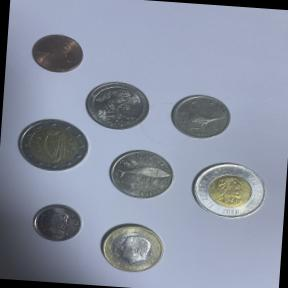1 Euro-B: (86, 215, 174, 283)
2 Euro-B: (10, 114, 92, 176)
Canada-10cent-B: (24, 197, 90, 250)
Canada-2Dollar-B: (181, 150, 280, 228)
Croatia-2Kune-B: (96, 137, 182, 206)
US-1cent-B: (19, 24, 92, 81)
US-25cent-B: (80, 78, 154, 132)
